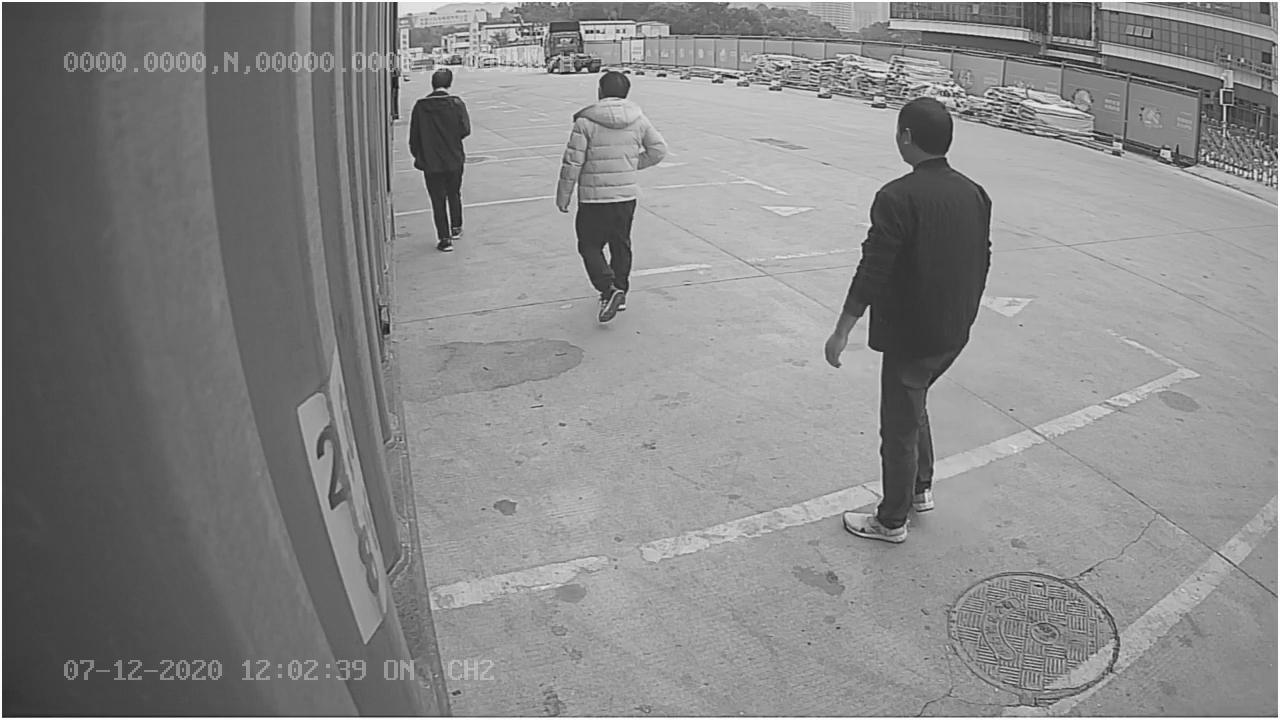person: (819, 96, 992, 546), (556, 64, 669, 329)
